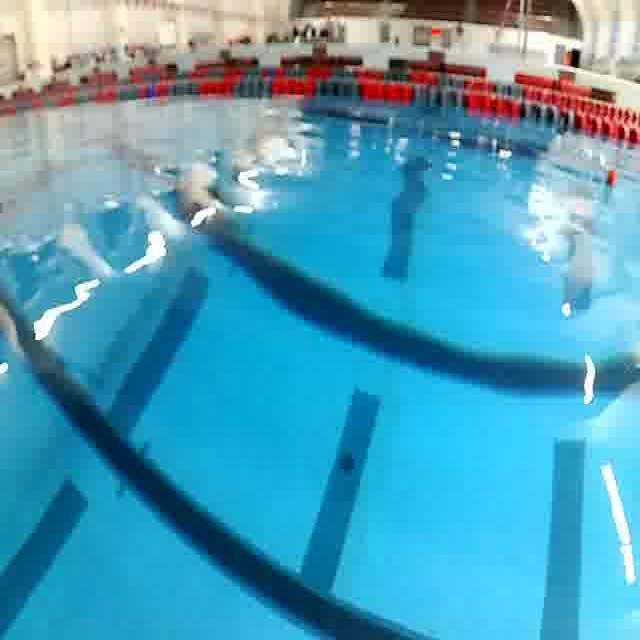Bottle: (539, 143, 624, 198)
